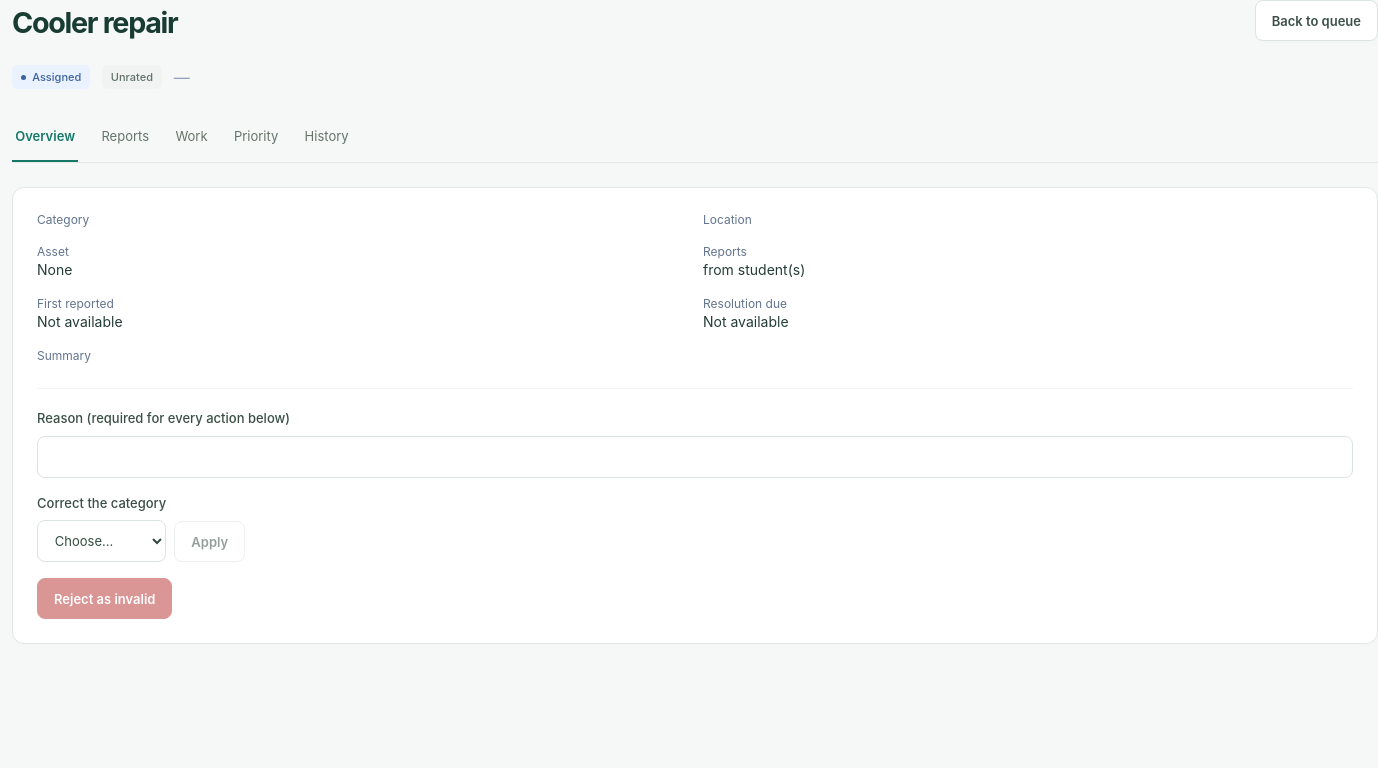
loads issue history when its tab is opened
Click the tab "History".
click(327, 138)  # box x1=301 y1=113 x2=352 y2=162
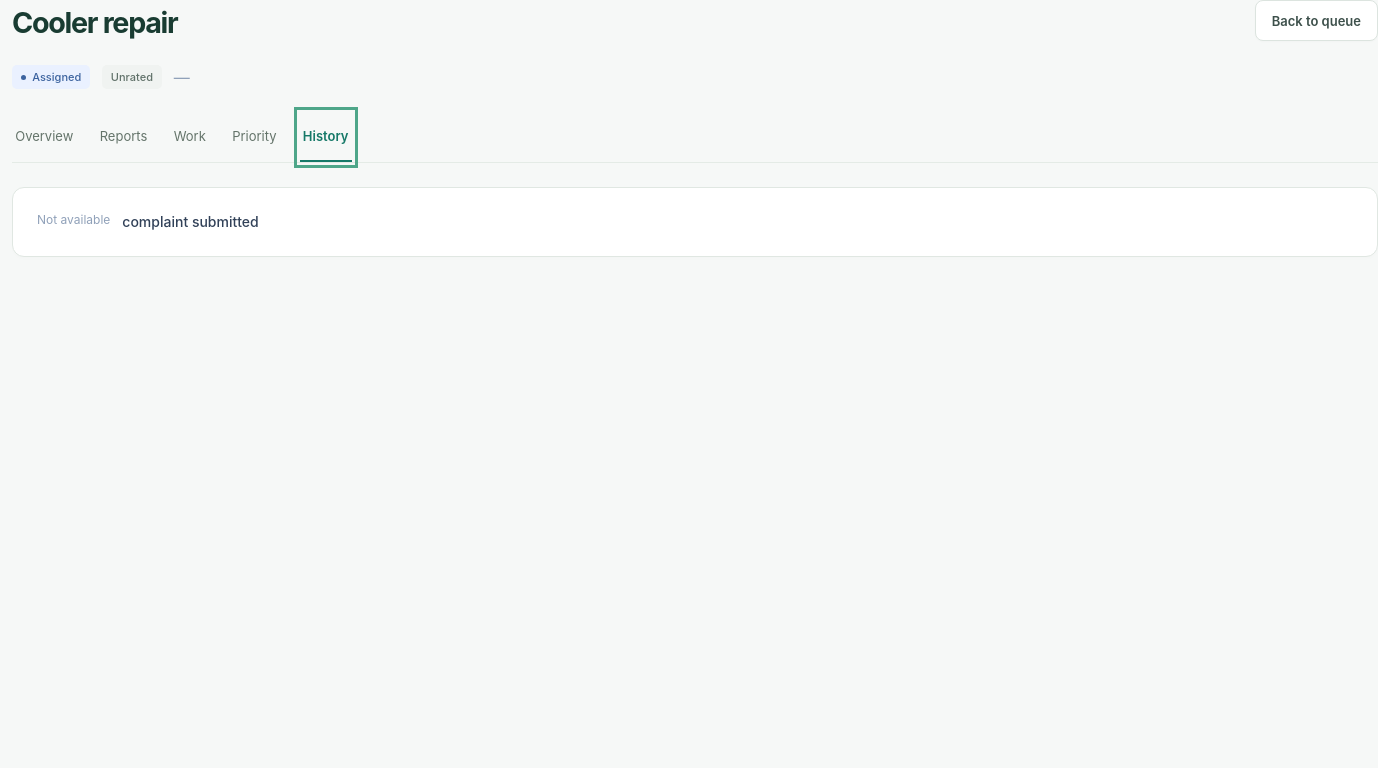
Now the text "complaint submitted" is shown, box x1=122 y1=212 x2=259 y2=232
